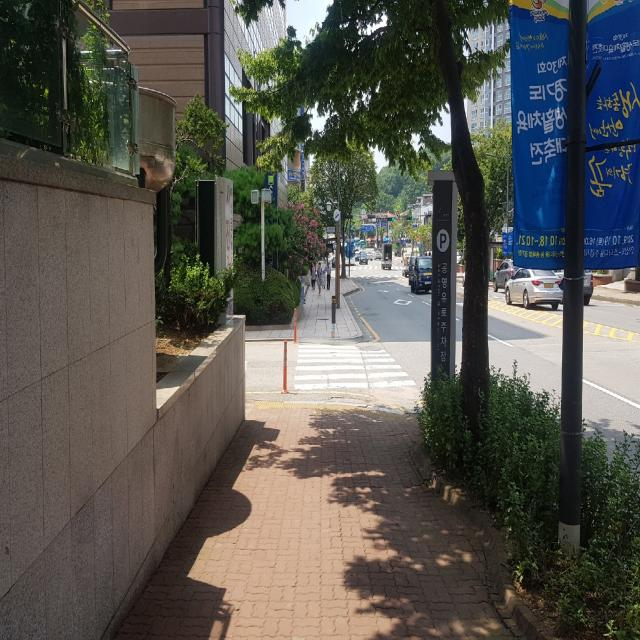횡단보도: (294, 342, 416, 392)
